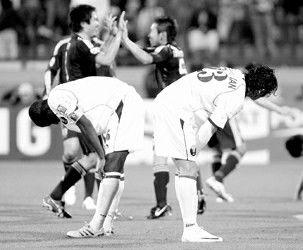bending: (152, 65, 277, 248), (29, 74, 147, 236)
